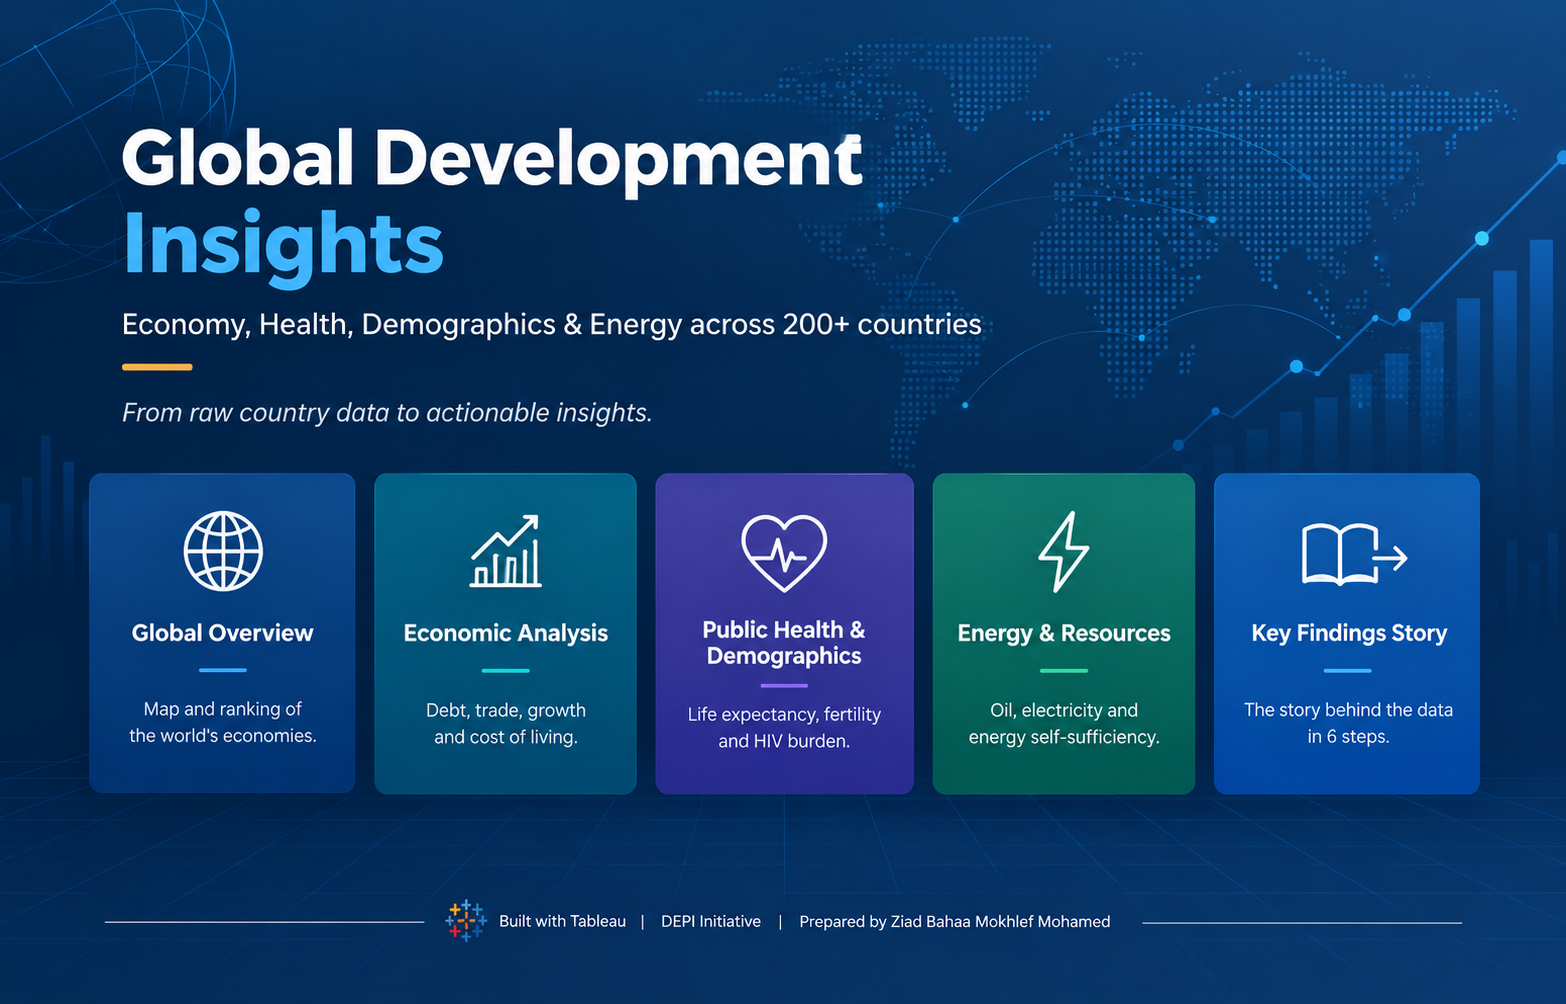

The dashboard page shown, as its layout file describes it:
{"tool":"tableau","page":{"name":"HOME","canvas":[1400,900],"ordinal":3},"visuals":[{"type":"image","param":"Image/Global Development Insights Dashboard.png","box":[0,0,1400,900]},{"type":"dashboard-object","box":[96,715,210,30]},{"type":"dashboard-object","box":[346,715,210,30]},{"type":"dashboard-object","box":[599,715,210,30]},{"type":"dashboard-object","box":[847,715,210,30]}]}

Visuals, with their boxes in screenshot pixels (x1, y1, x2, y2), scaled from the page's 1400x900 canvas onto the 1566x1004 screenshot:
image: (0, 0, 1565, 1003)
dashboard-object: (107, 798, 342, 831)
dashboard-object: (387, 798, 622, 831)
dashboard-object: (670, 798, 905, 831)
dashboard-object: (947, 798, 1182, 831)
